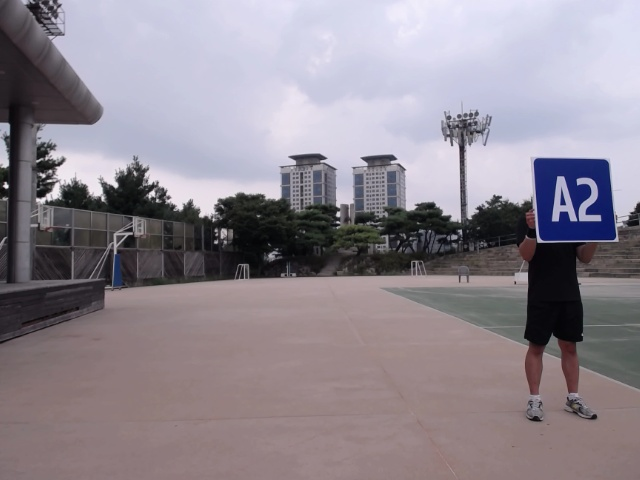delivery_a2: (533, 158, 617, 241)
